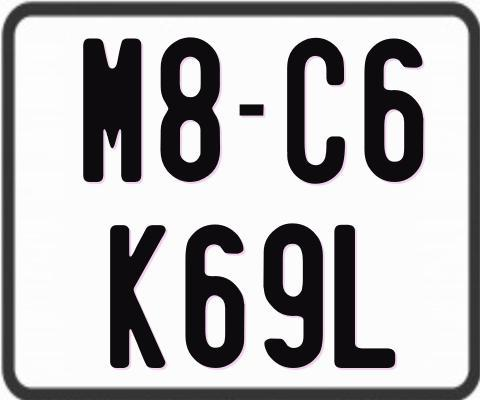6: (183, 222, 245, 369), (363, 37, 422, 183)
8: (159, 35, 224, 186)
9: (260, 220, 324, 368)
C: (286, 38, 349, 187)
K: (107, 225, 164, 372)
L: (331, 225, 393, 370)
M: (82, 36, 143, 185)
